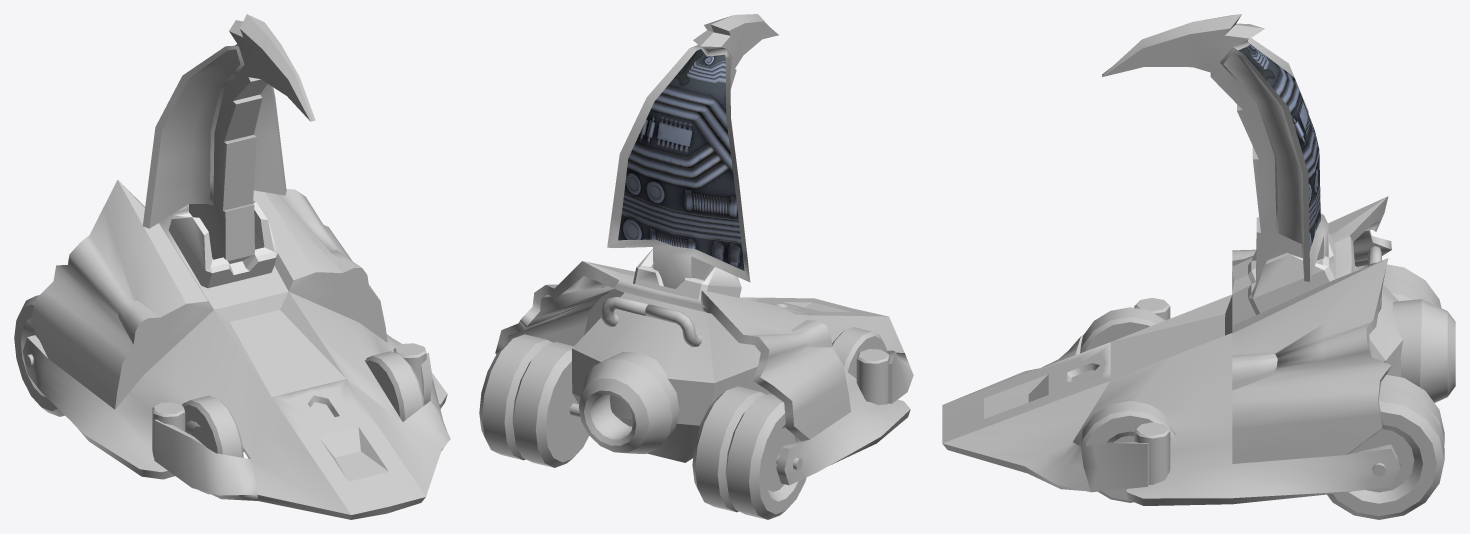
File: scorpion_2_boss_destructable.fbx
The picture shows the model from 3 angles, left to right: view 1: azimuth 30°, elevation 25°; view 2: azimuth 150°, elevation 25°; view 3: azimuth 270°, elevation 25°; orthographic projection. The views are drawn at different scales.
Parts seen in each view (by area): view 1: Plane.010, stinger.002, Plane.018, front_wheels.002, Plane.015, Plane.017, Plane.016, back_wheels.002; view 2: Plane.010, stinger.002, back_wheels.002, Plane.013, front_wheels.002, Plane.015, Plane.014, Plane.019; view 3: Plane.010, Plane.016, stinger.002, back_wheels.002, Plane.017, Plane.013, front_wheels.002, Plane.018.
Boxes of the visible parts, box(x1,y1,x2,y2) form: Plane.010: box(22, 179, 447, 519); stinger.002: box(143, 14, 315, 263); Plane.018: box(230, 310, 345, 396); front_wheels.002: box(182, 351, 424, 494); Plane.015: box(154, 419, 258, 500); Plane.017: box(346, 379, 450, 496); Plane.016: box(265, 189, 379, 299); back_wheels.002: box(14, 295, 64, 416); Plane.010: box(495, 249, 910, 485); stinger.002: box(607, 14, 778, 288); back_wheels.002: box(479, 334, 806, 519); Plane.013: box(579, 351, 679, 453); front_wheels.002: box(832, 327, 886, 378); Plane.015: box(887, 350, 913, 403); Plane.014: box(645, 304, 701, 347); Plane.019: box(601, 297, 649, 326); Plane.010: box(942, 196, 1402, 505); Plane.016: box(1232, 258, 1390, 463); stinger.002: box(1102, 14, 1328, 282); back_wheels.002: box(1327, 264, 1444, 519); Plane.017: box(942, 381, 1109, 492); Plane.013: box(1392, 299, 1455, 402); front_wheels.002: box(1079, 307, 1175, 502); Plane.018: box(1110, 314, 1225, 380).
Size of the model in its own units: 358 by 425 by 453.
